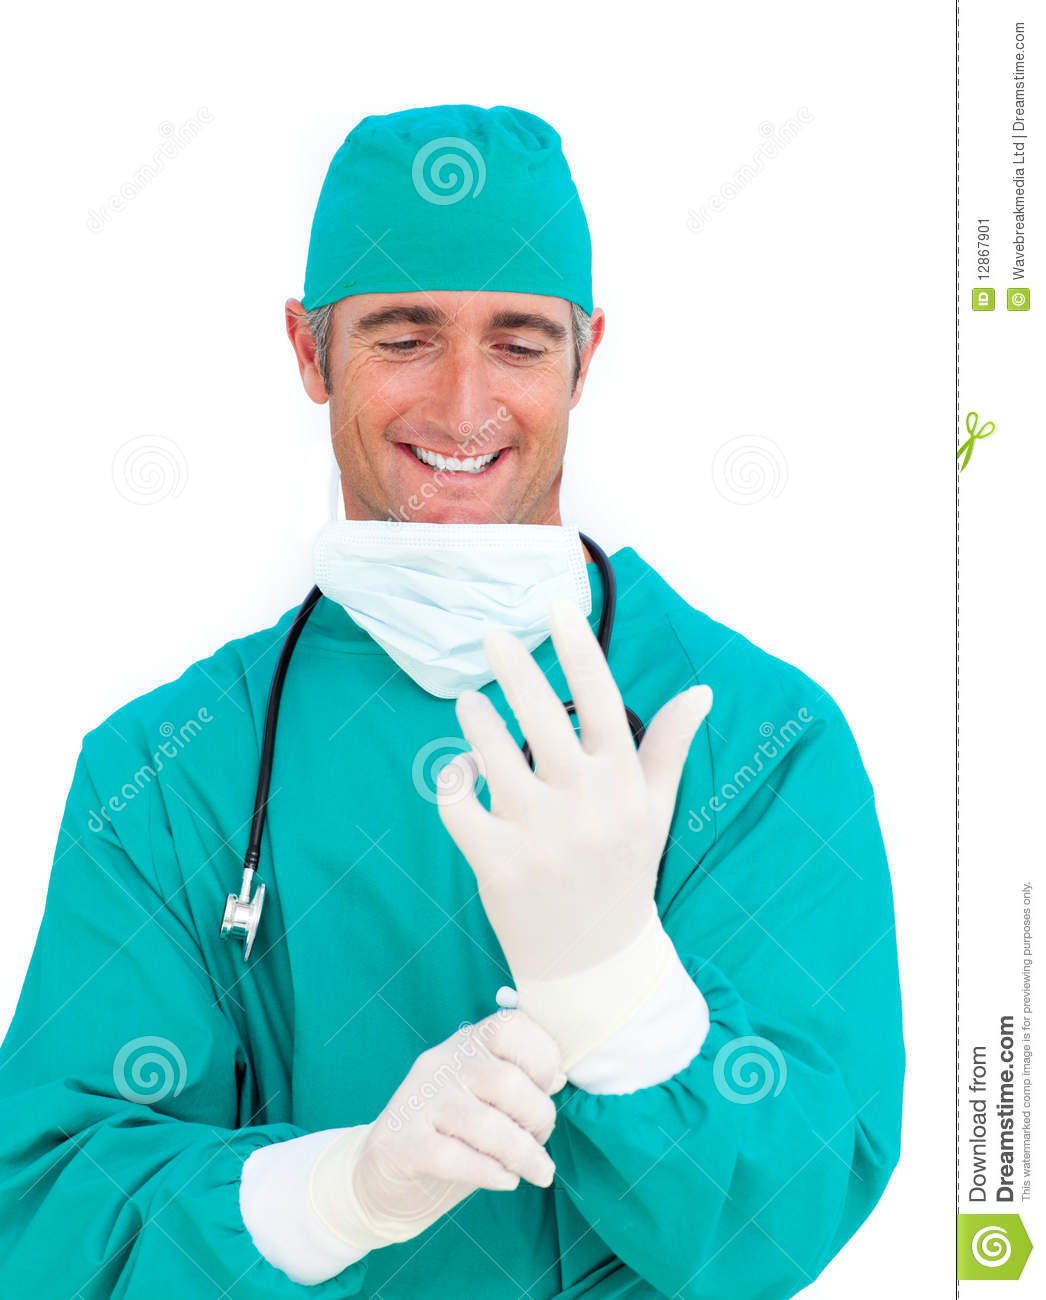mask: (313, 505, 605, 703)
